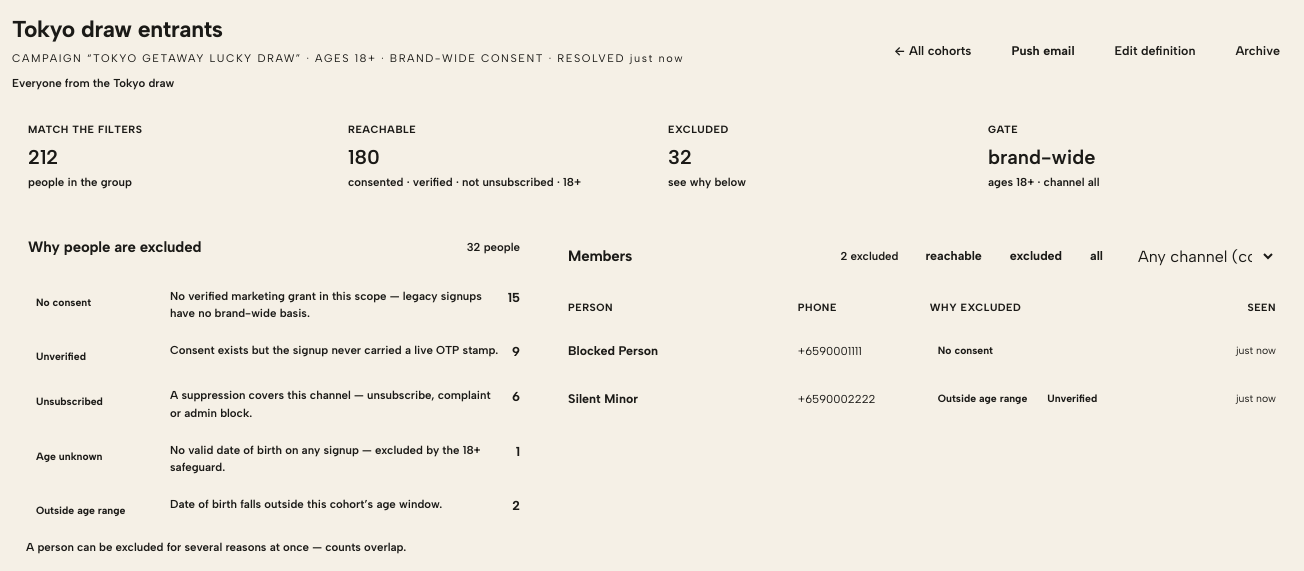
Test: AdminV2CohortDetail › status switch re-queries members
The width and height of the screenshot is (1304, 571).
Expected: the link "Blocked Person" is shown, [568,343,658,358]
Click the button "reachable": x=954, y=256 [912,239,996,273]
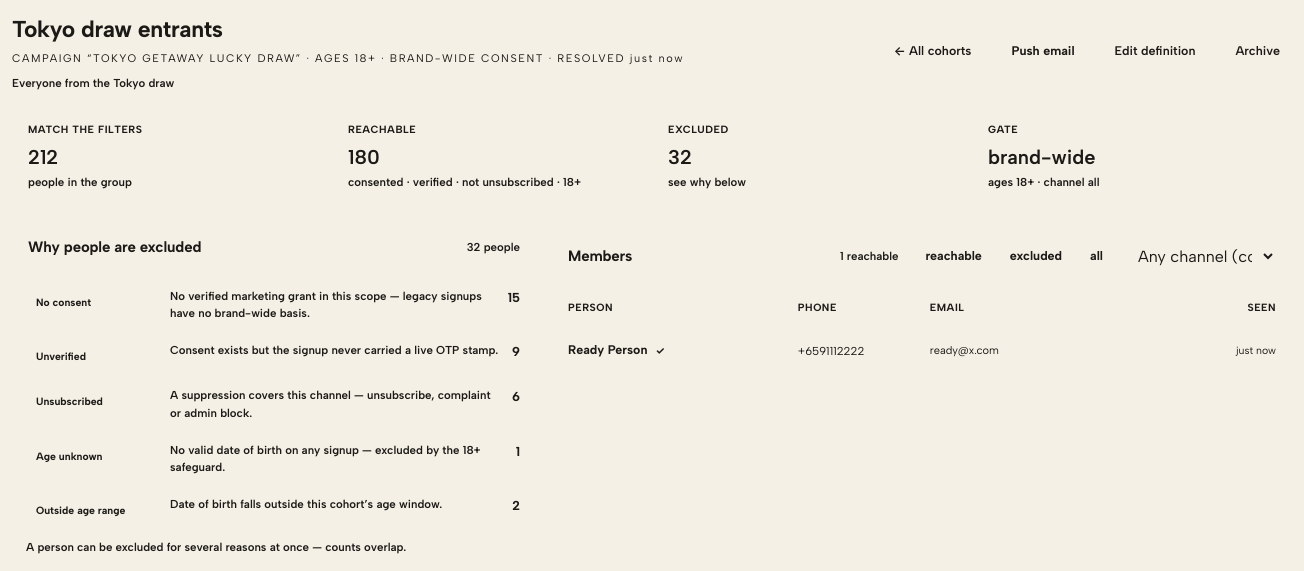
Expected: the link "Ready Person" is shown, [568,342,647,357]
